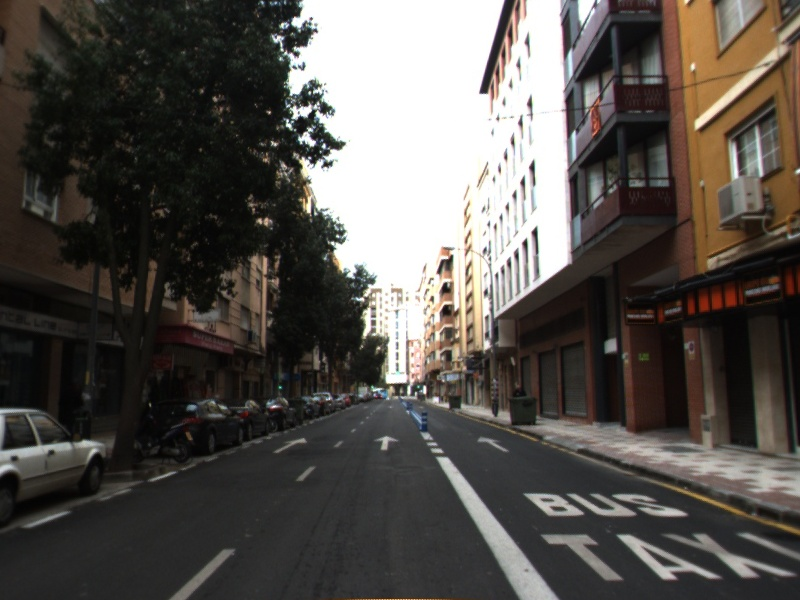STRAIGHT: (270, 436, 309, 455), (475, 434, 511, 453), (372, 434, 401, 452)
